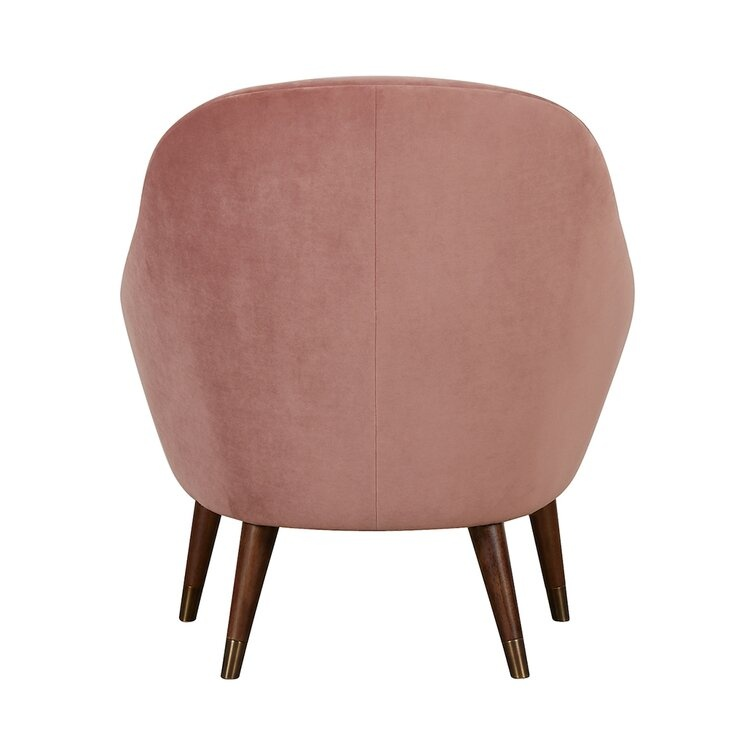obstacle: (122, 77, 633, 678)
